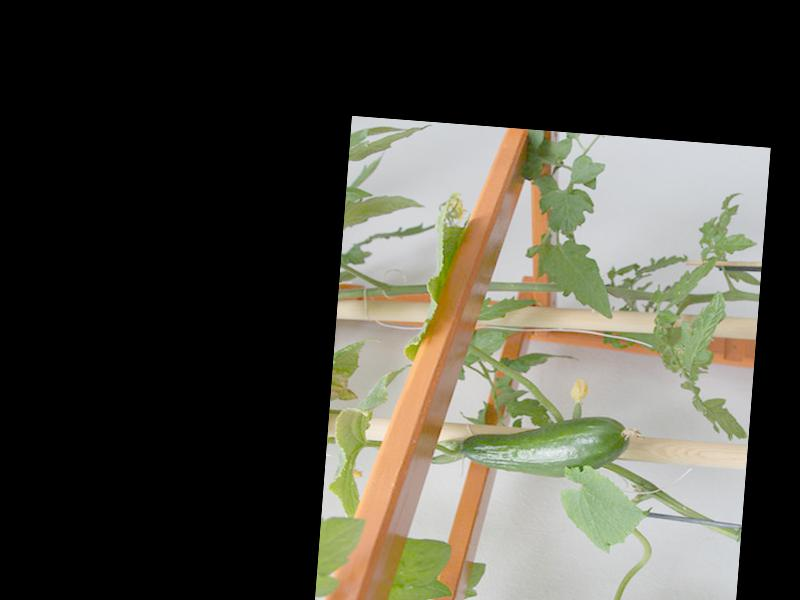Cucumber: (460, 406, 642, 482)
